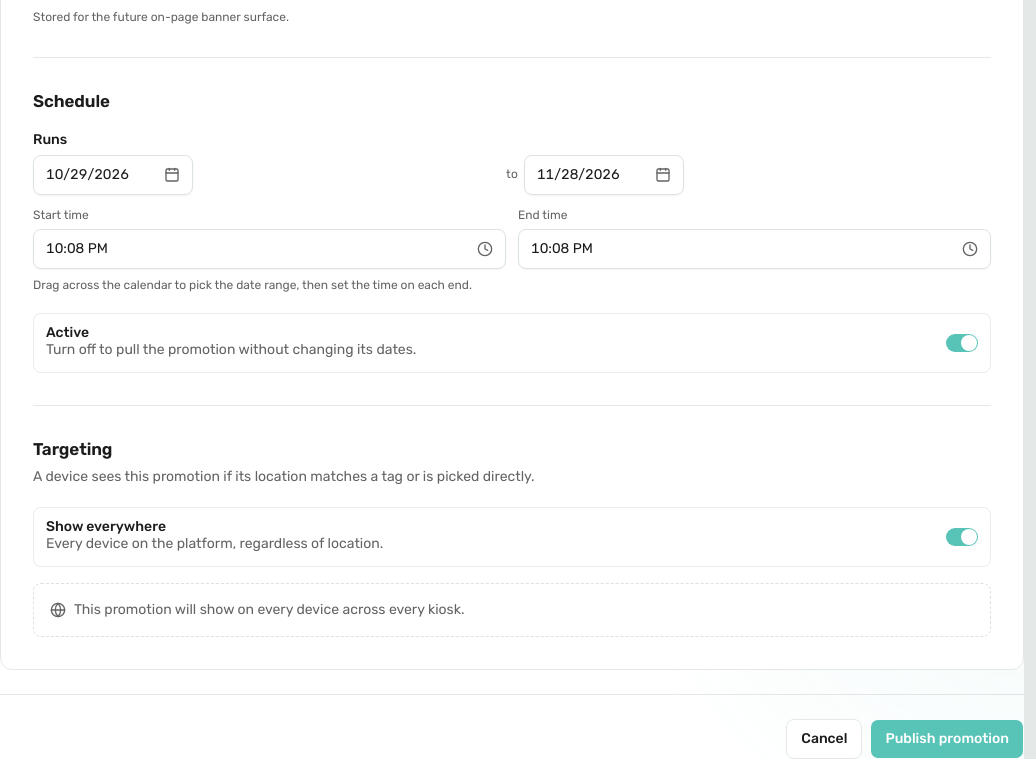
Test: NewPromotionPage targeting › can be turned off, and stays off, revealing the tag and location pickers
The image size is (1036, 759).
(page scrolled)
What coordinates should you click on to do the following:
click the switch named "show everywhere" in the row of "Show everywhere"
I would click on:
 (962, 537)
Its box is [946,528,978,546].
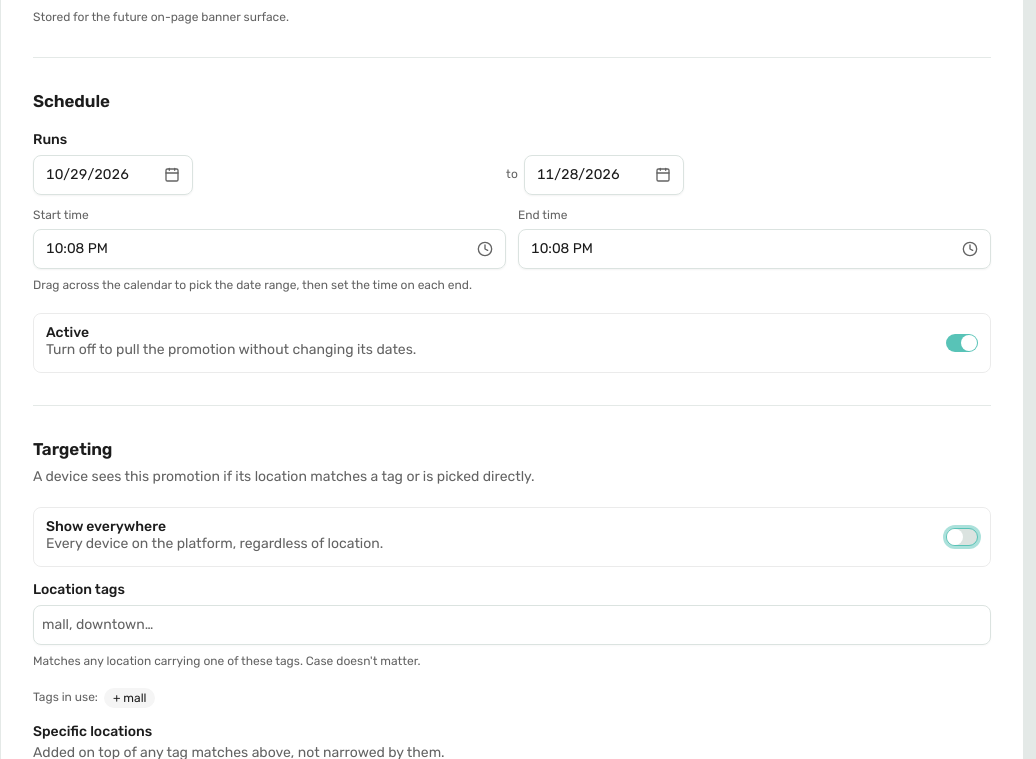
Result: the switch named "show everywhere" in the row of "Show everywhere" is not checked at [946,528,978,546]
Result: the field labelled "Location tags" is shown at [42,615,982,635]
Result: the text "Specific locations" is shown at [33,723,152,740]
